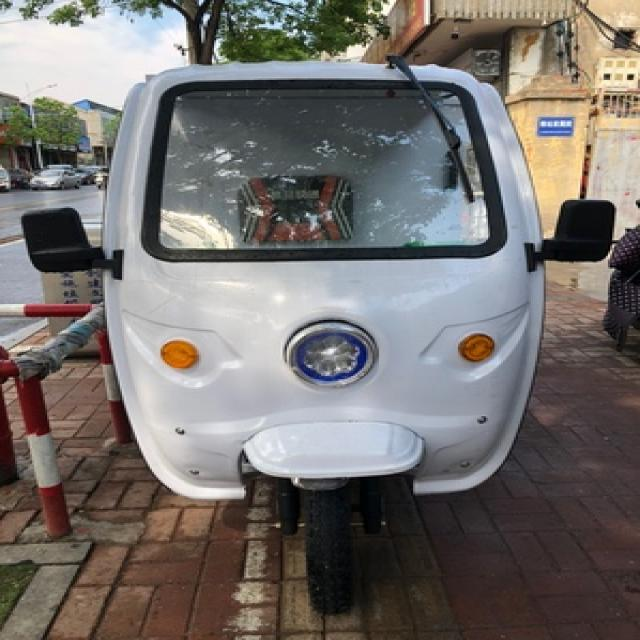car: (24, 167, 79, 190)
tricycle: (15, 56, 614, 616)
